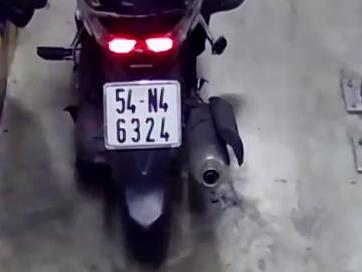num_plate: (100, 82, 184, 151)
